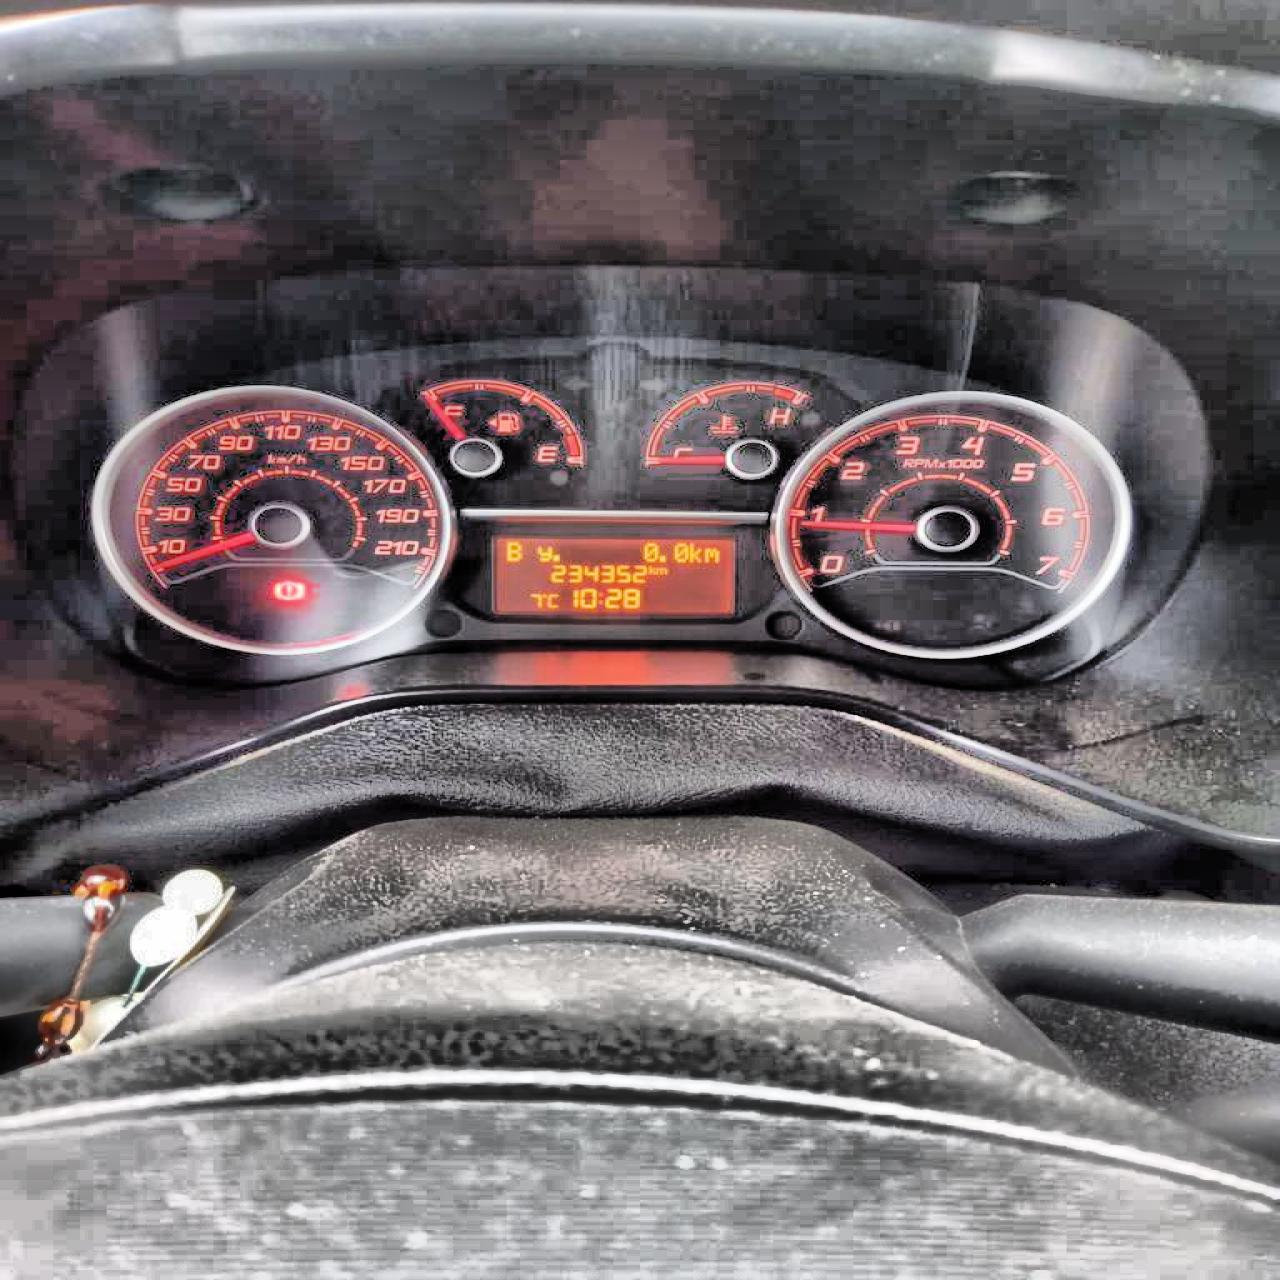-: (656, 553, 666, 563), (552, 552, 560, 563)
0: (640, 542, 659, 563), (578, 586, 597, 607), (672, 542, 688, 563)
1: (570, 587, 578, 607)
2: (549, 563, 567, 583), (604, 586, 620, 608), (629, 564, 645, 583)
3: (566, 563, 581, 583), (599, 563, 613, 583)
4: (581, 564, 597, 583)
5: (615, 563, 629, 583)
7: (529, 592, 539, 607)
8: (621, 587, 640, 608)
X: (503, 540, 522, 561), (688, 538, 702, 563), (536, 544, 552, 563), (702, 545, 719, 563), (545, 592, 558, 607), (655, 566, 667, 576), (647, 564, 655, 576), (597, 590, 601, 605)
odometer: (486, 533, 736, 617)
